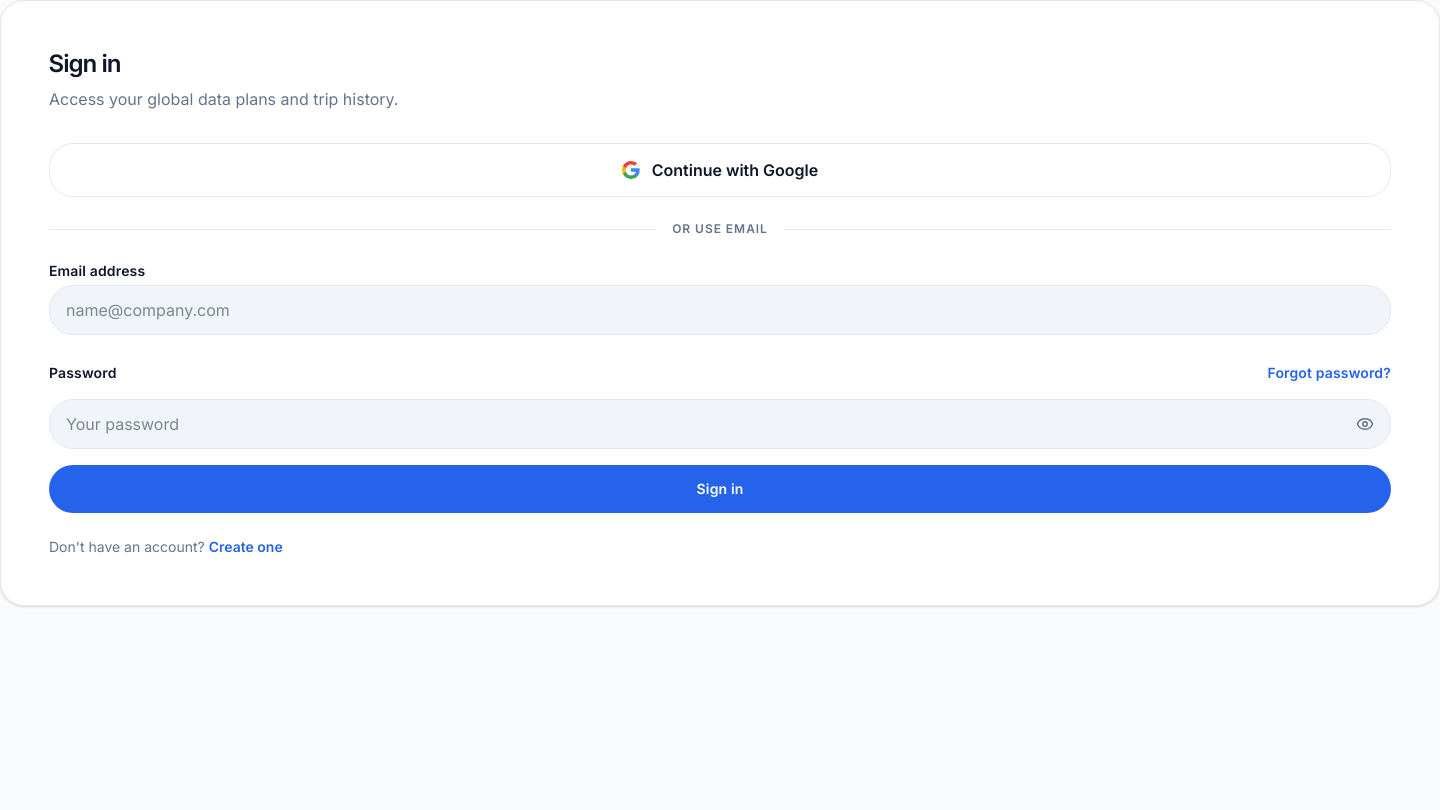
when the server refuses › does not claim a session it never got
Type "traveller@example.com" into the field named "email address".
click(720, 310); type("traveller@example.com")  # box [49,285,1391,335]
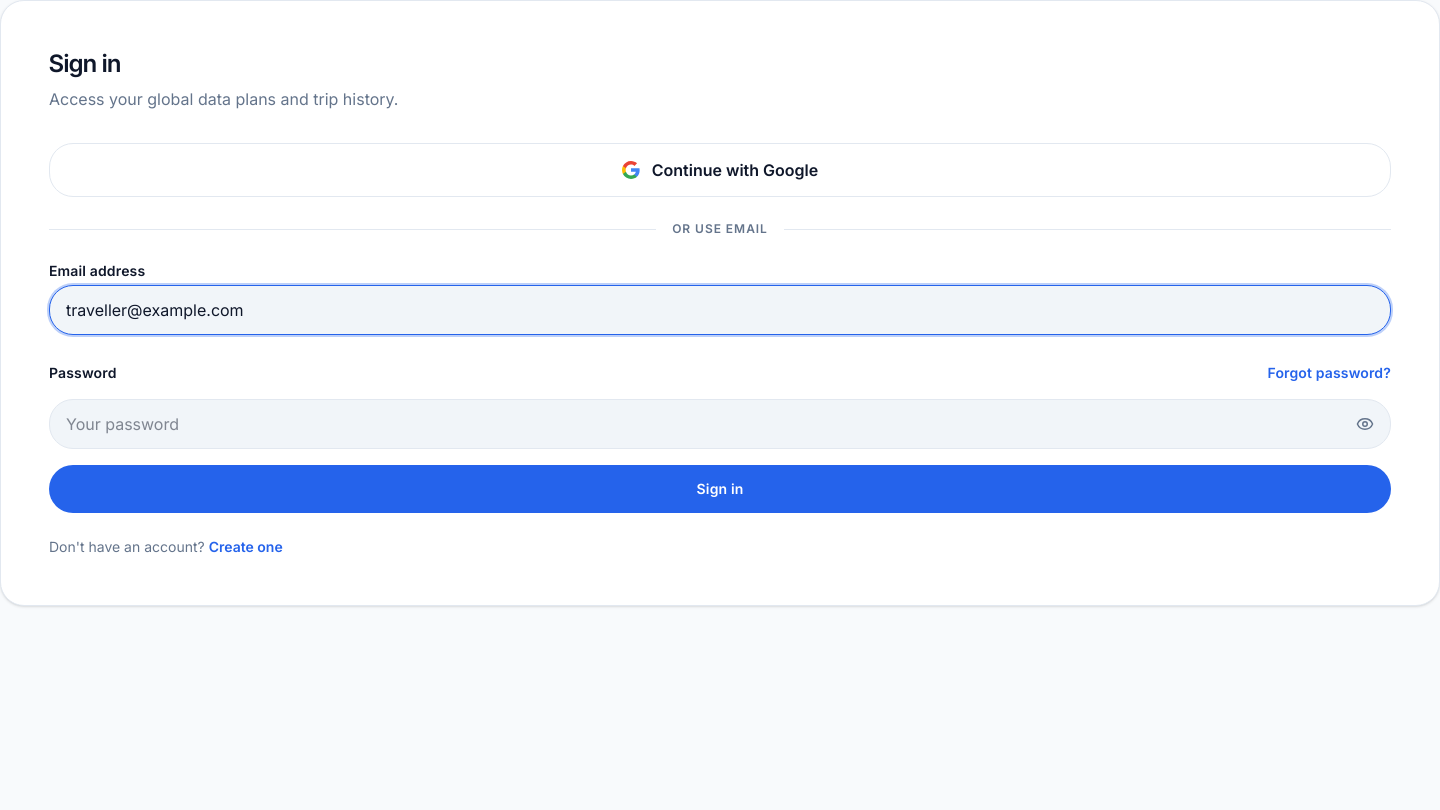
Type "correct-horse-battery" into the password field labelled "Your password".
click(720, 424); type("correct-horse-battery")  # box [49,399,1391,449]
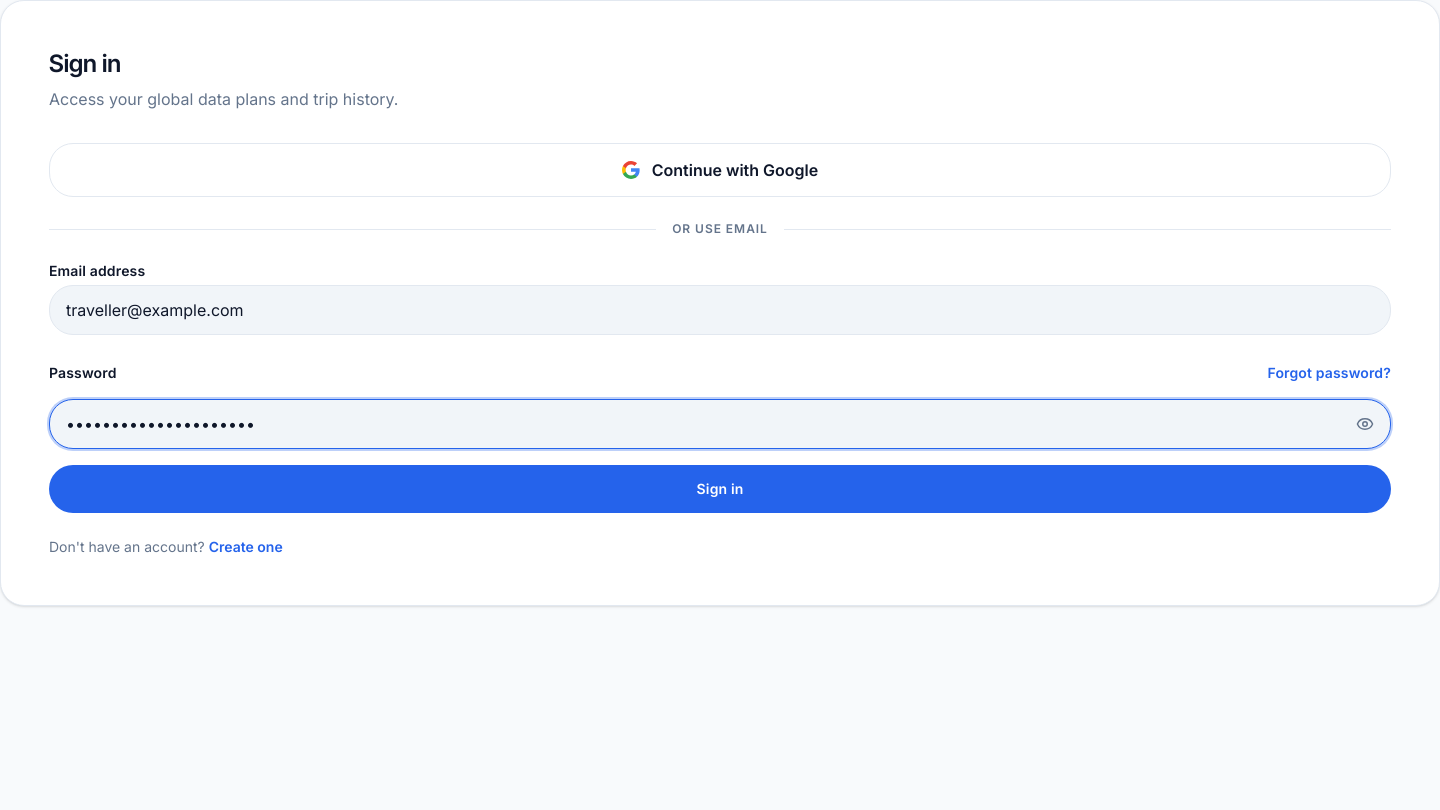
Click the 2nd button.
click(720, 489)  # box [49,465,1391,513]
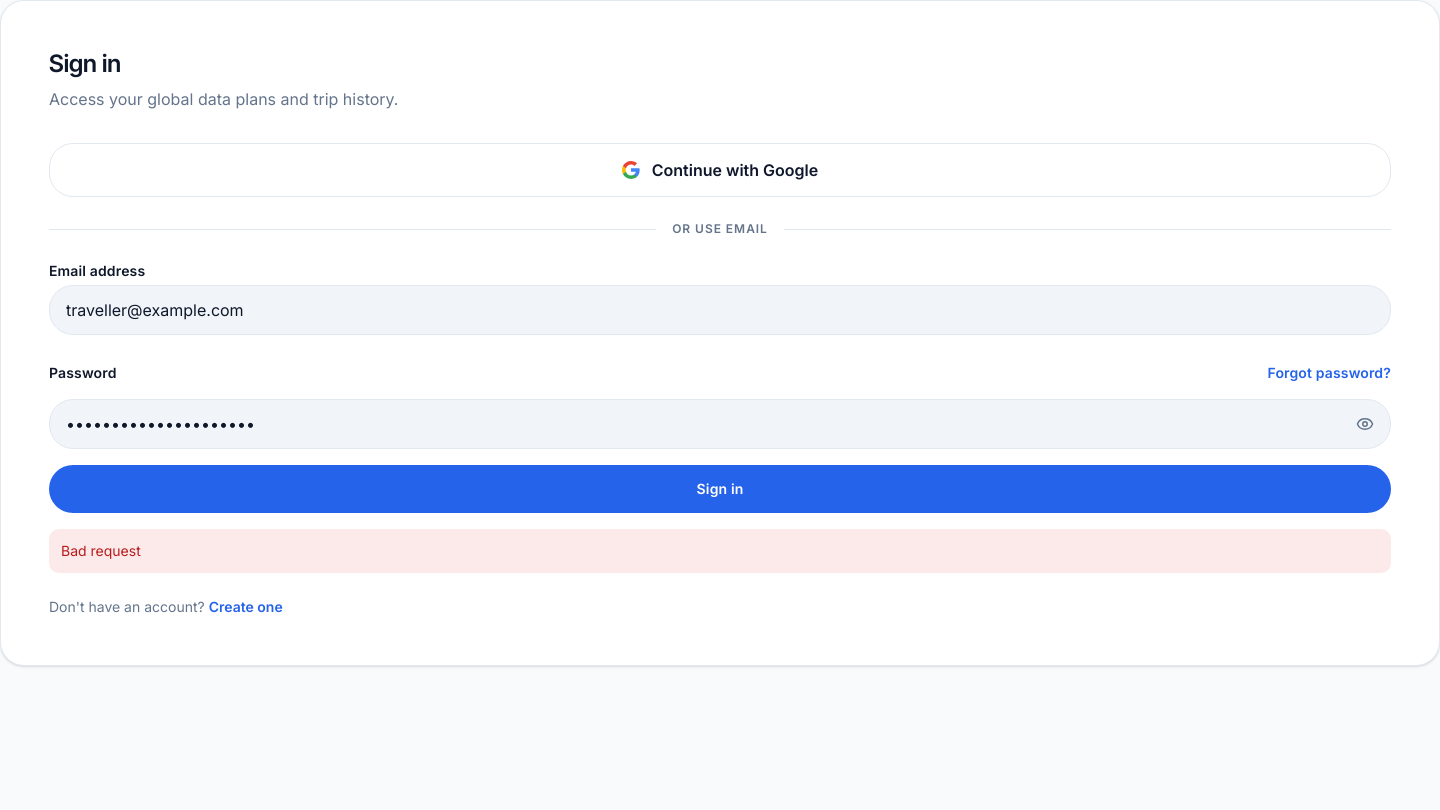
Expected: the message is shown, [49,529,1391,573]
